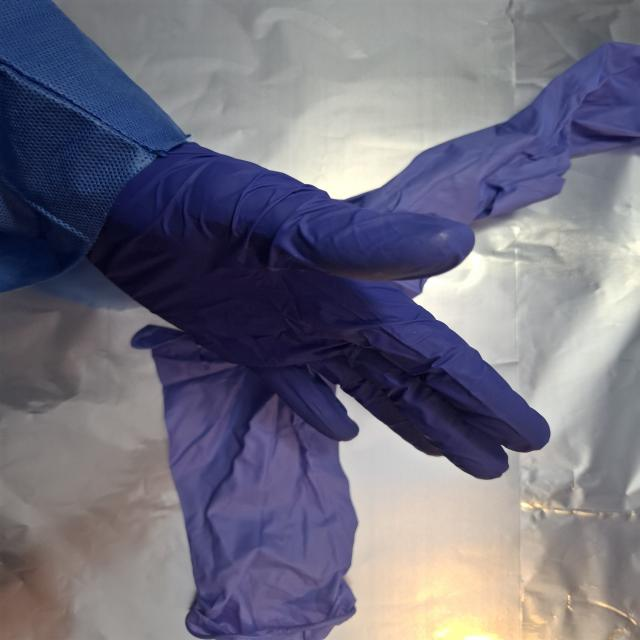glove_on: (81, 138, 554, 482)
